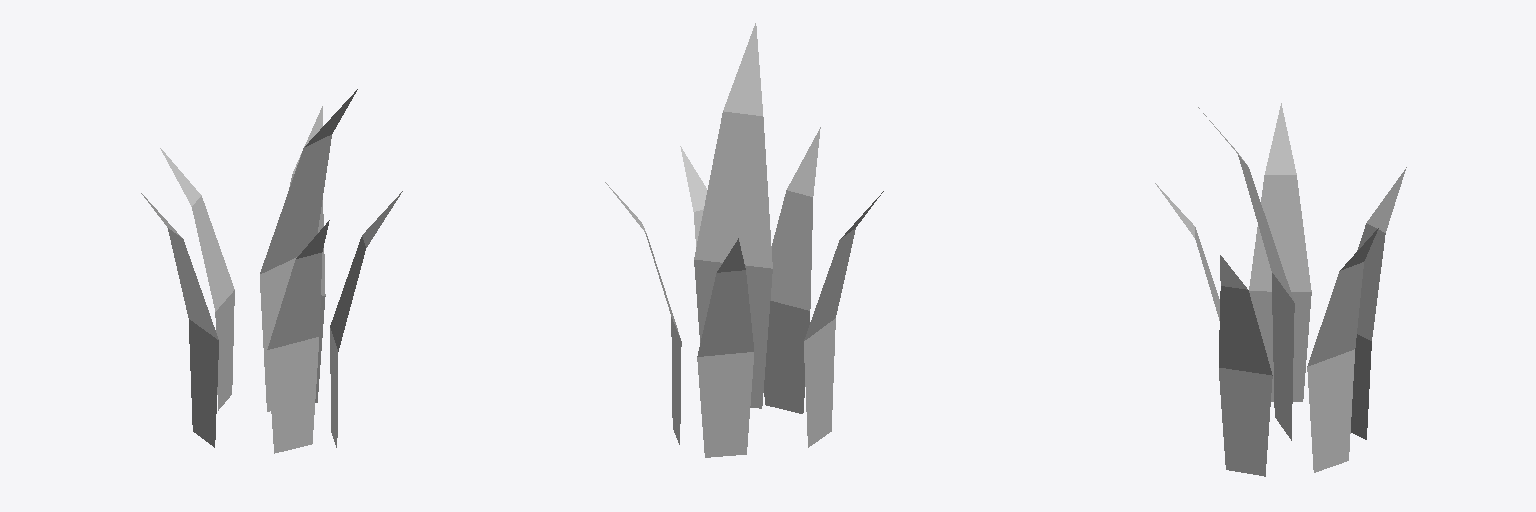
Rendered from grass_short0.obj.
3 renders of one model, left to right at view 1: azimuth 30°, elevation 25°; view 2: azimuth 150°, elevation 25°; view 3: azimuth 270°, elevation 25°, orthographic.
Parts seen in each view (by area): view 1: Grass_Plane; view 2: Grass_Plane; view 3: Grass_Plane.
Part boxes in pixels (left/top/right/bottom): Grass_Plane: left=141, top=89, right=402, bottom=453; Grass_Plane: left=605, top=23, right=883, bottom=457; Grass_Plane: left=1155, top=103, right=1406, bottom=476.
Size of the model in its own units: 2.51 by 3.82 by 2.34.